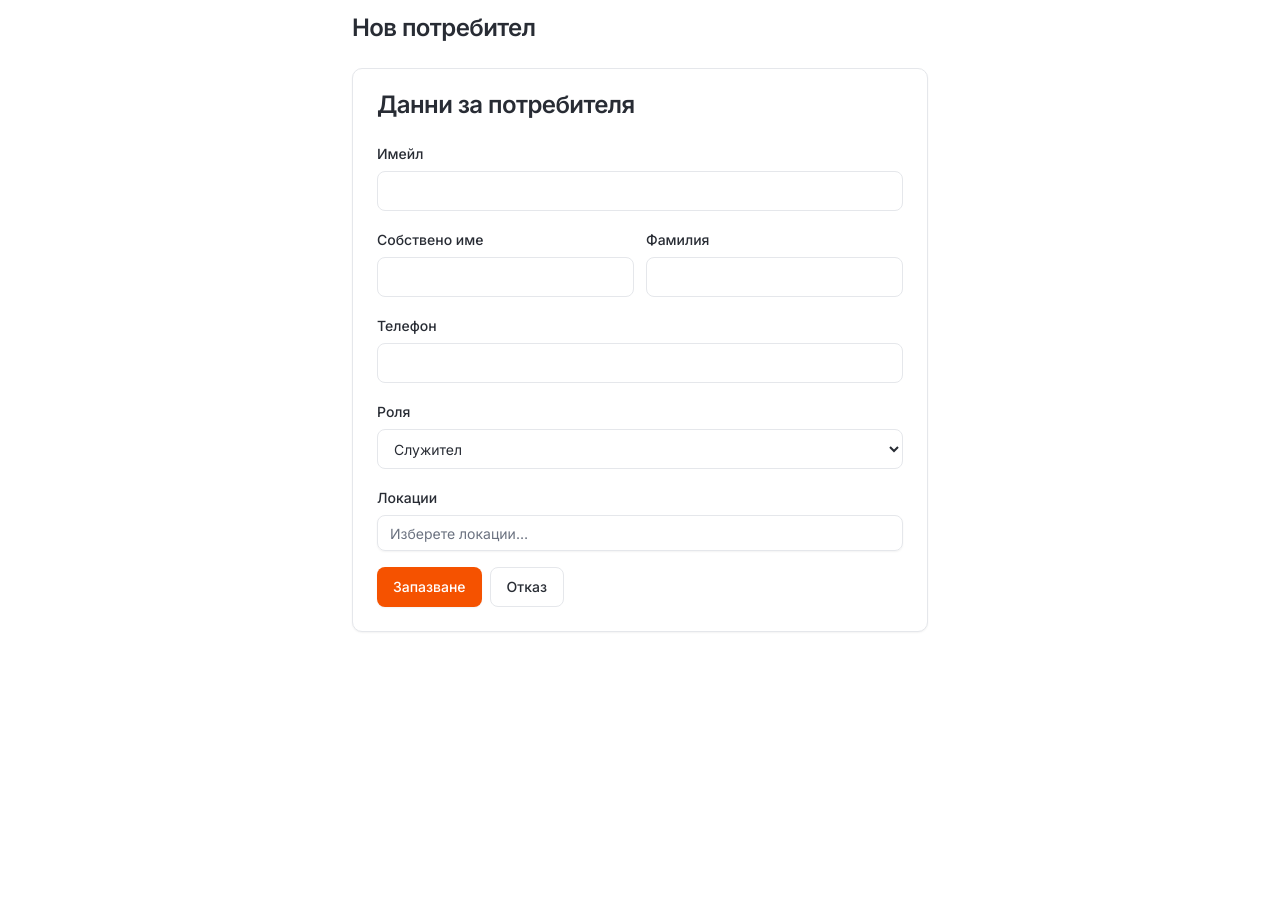
Test: UserForm — save confirmations (TKT-0092) › confirms a plain create with a toast, stays put, and resets the form
The image size is (1280, 912).
Step 1. Type "new@example.com" into the field labelled "Имейл" → coordinates (640, 191), box [377,171,903,211]
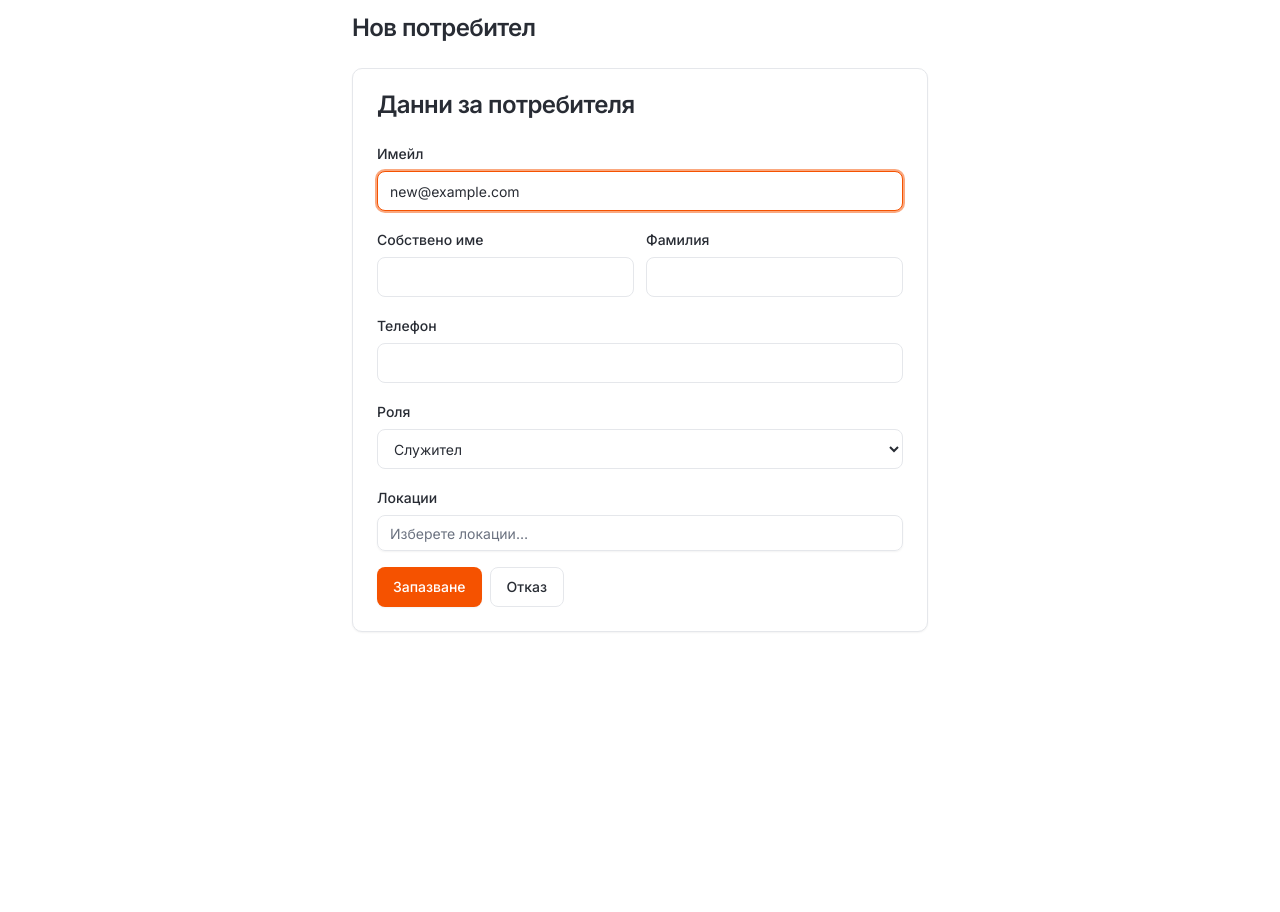
Step 2. Select "Клиент" in the dropdown labelled "Роля" → coordinates (640, 449), box [377,429,903,469]
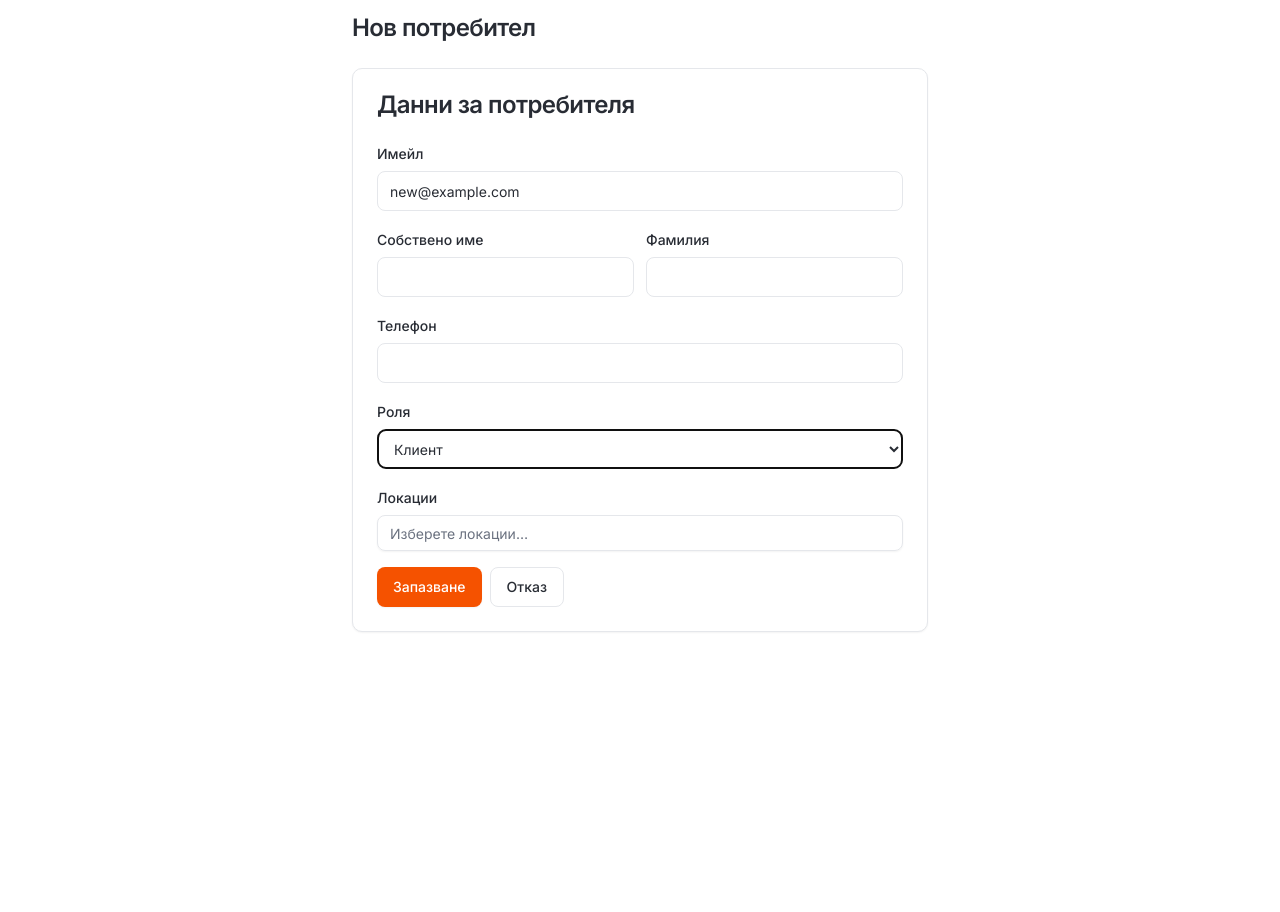
Step 3. Click the button "Запазване" → coordinates (429, 587), box [377,567,482,607]
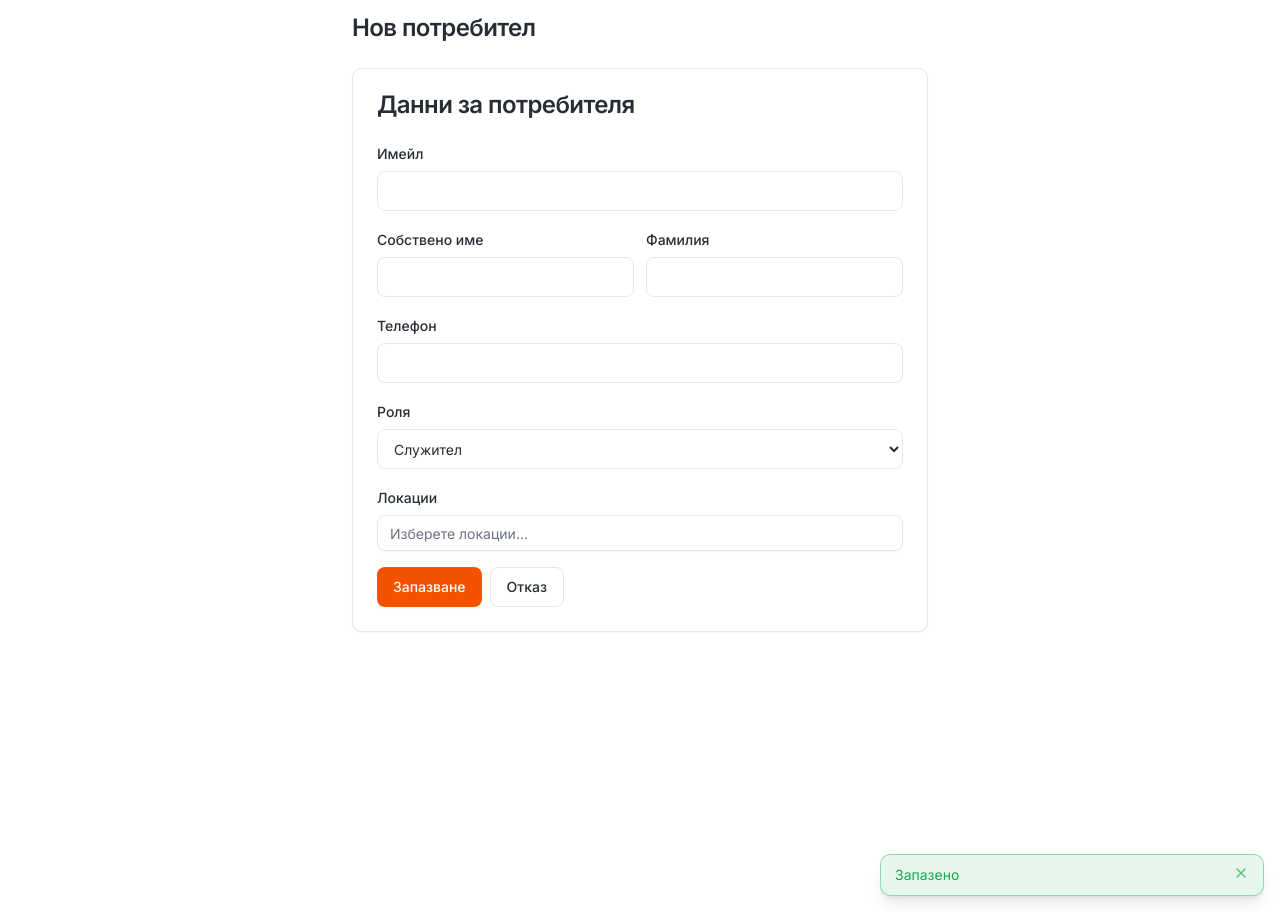
Expected: the text "Запазено" is shown, [895,866,959,883]
Expected: the field labelled "Имейл" is empty, [377,171,903,211]
